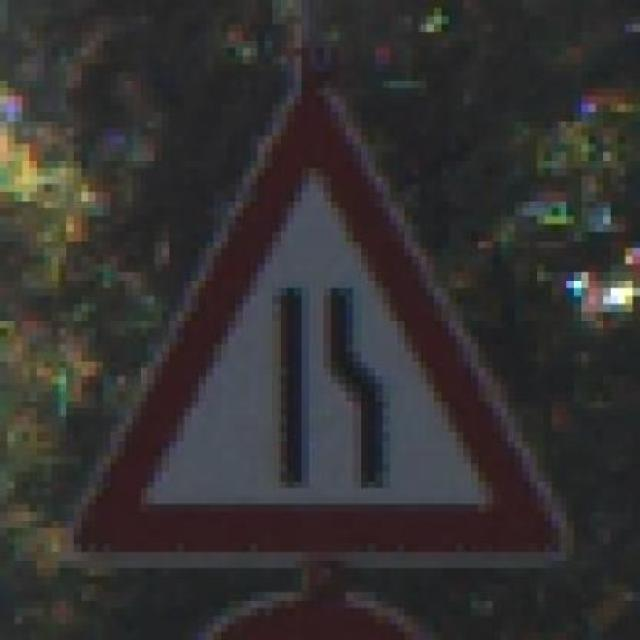-Road narrows on right: (44, 71, 581, 568)
